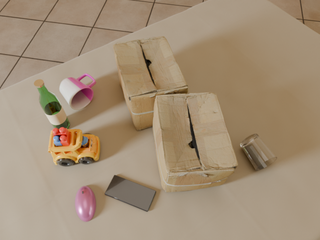bottle: (34, 79, 70, 129)
box: (152, 93, 238, 192), (113, 36, 188, 130)
cup: (240, 134, 277, 170), (60, 74, 96, 110)
mouse: (75, 186, 96, 222)
phone: (105, 175, 156, 212)
toy_car: (48, 127, 100, 166)
